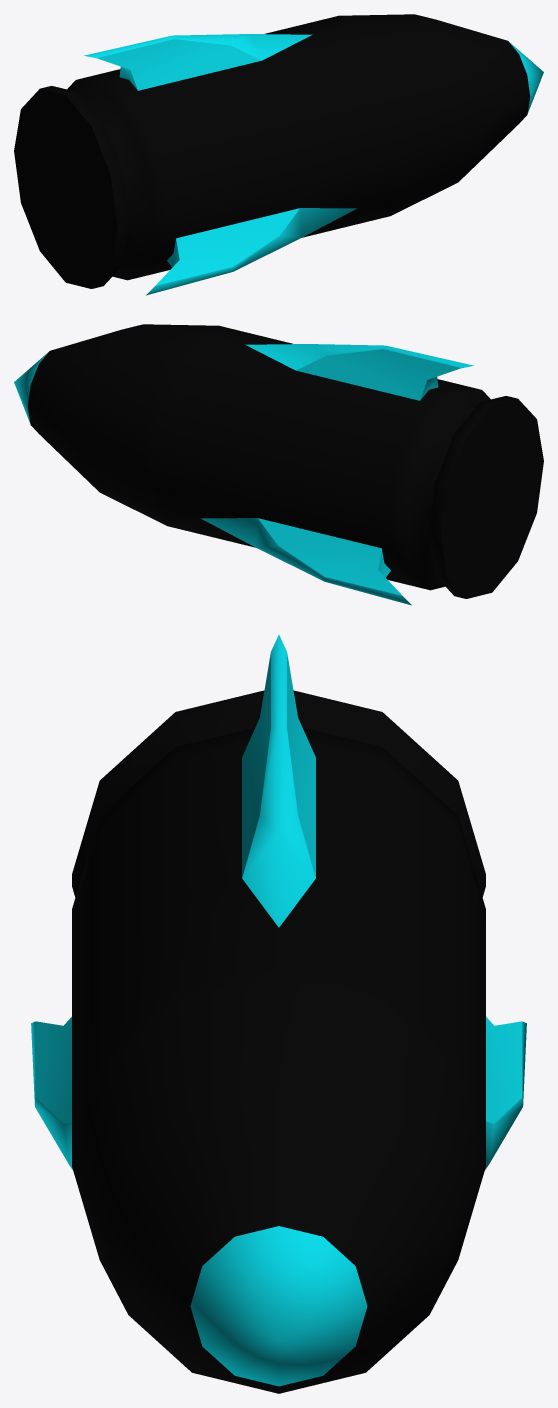
The model's file is SM_Projectile.fbx.
The picture shows the model from 3 angles, top to bottom: view 1: azimuth 30°, elevation 25°; view 2: azimuth 150°, elevation 25°; view 3: azimuth 270°, elevation 25°; orthographic projection. The views are drawn at different scales.
Parts seen in each view (by area): view 1: Projectile; view 2: Projectile; view 3: Projectile.
Boxes of the visible parts, x1,y1,x2,y2 form: Projectile: (14,14,543,295); Projectile: (14,324,543,605); Projectile: (31,634,526,1393).
Bounding box in the file's own units: 8 × 3.56 × 3.59.
